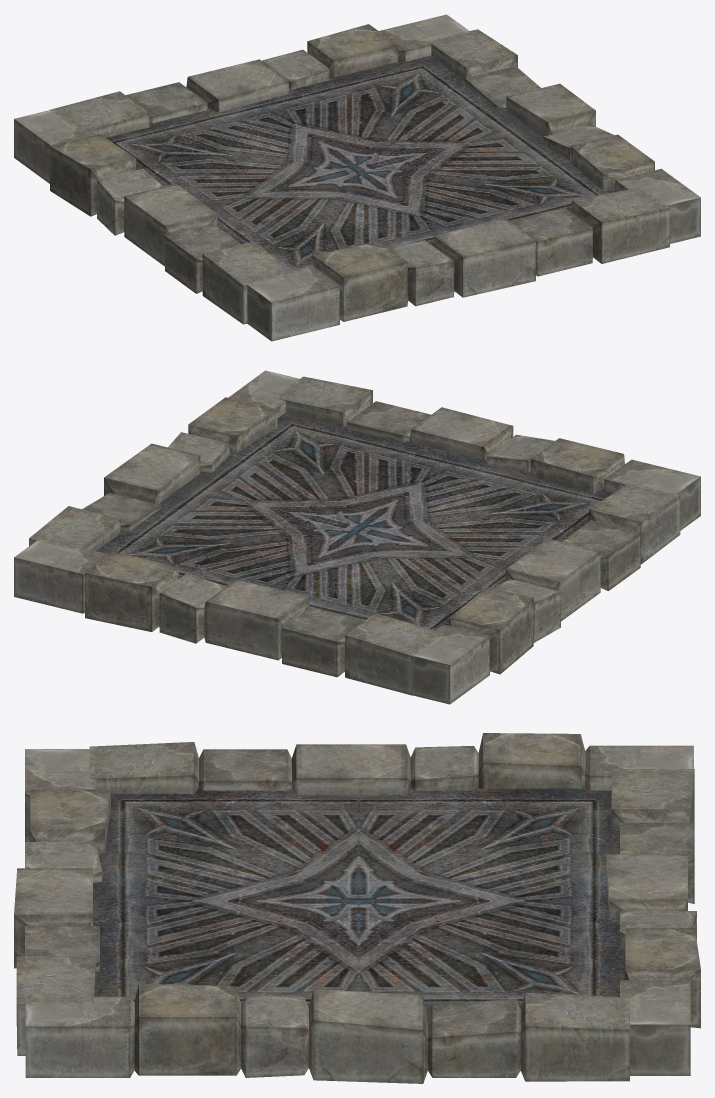
Rendered from bg_lut_lucastle_manhole01b_sm_msj.FBX.
The picture shows the model from 3 angles, top to bottom: view 1: azimuth 30°, elevation 25°; view 2: azimuth 150°, elevation 25°; view 3: azimuth 270°, elevation 25°; orthographic projection. The views are drawn at different scales.
Parts seen in each view (by area): view 1: bg_lut_lucastle_manhole01b_sm_msj; view 2: bg_lut_lucastle_manhole01b_sm_msj; view 3: bg_lut_lucastle_manhole01b_sm_msj.
Boxes of the visible parts, <box> form: bg_lut_lucastle_manhole01b_sm_msj: <box>14,14,700,341</box>; bg_lut_lucastle_manhole01b_sm_msj: <box>14,370,700,704</box>; bg_lut_lucastle_manhole01b_sm_msj: <box>14,733,700,1083</box>.
Bounding box in the file's own units: 150 × 14.99 × 149.
